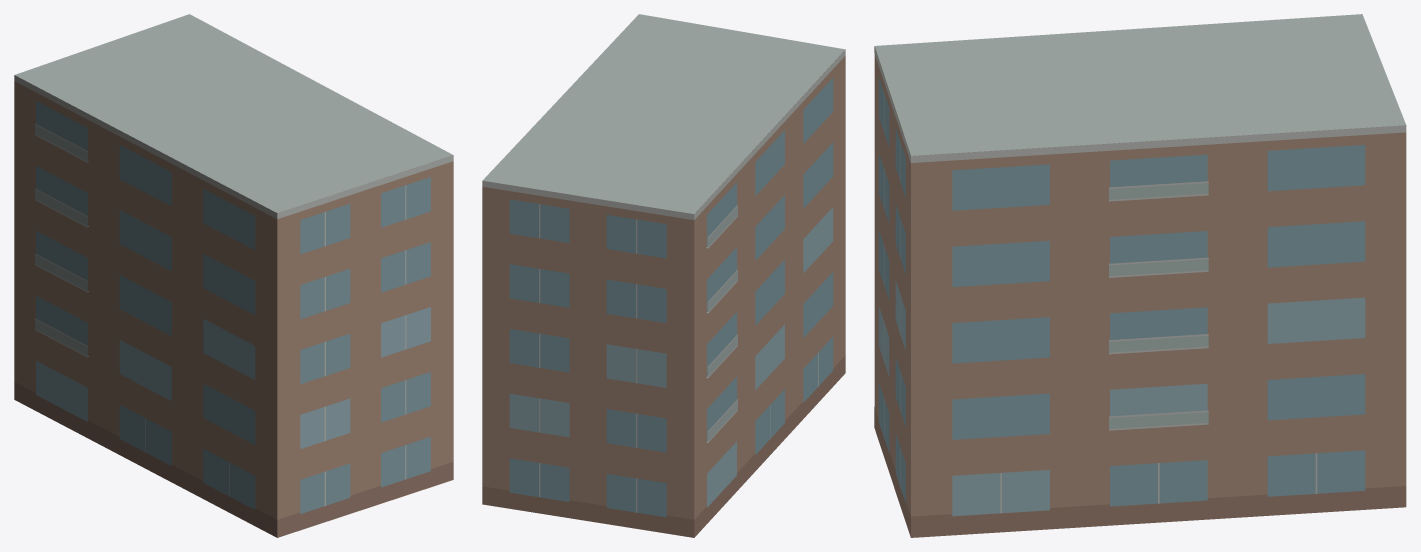
The model's file is survey-upis-32721250.glb.
3 views of the same model, side by side, from view 1: azimuth 30°, elevation 25°; view 2: azimuth 150°, elevation 25°; view 3: azimuth 270°, elevation 25° (orthographic). The views are drawn at different scales.
Parts seen in each view (by area): view 1: survey-upis-32721250.tmp; view 2: survey-upis-32721250.tmp; view 3: survey-upis-32721250.tmp.
Part boxes in pixels (x1=…): survey-upis-32721250.tmp: x1=14, y1=14, x2=453, y2=537; survey-upis-32721250.tmp: x1=482, y1=14, x2=845, y2=537; survey-upis-32721250.tmp: x1=874, y1=14, x2=1406, y2=537.
Bounding box in the file's own units: 10.45 × 13.1 × 16.54.
